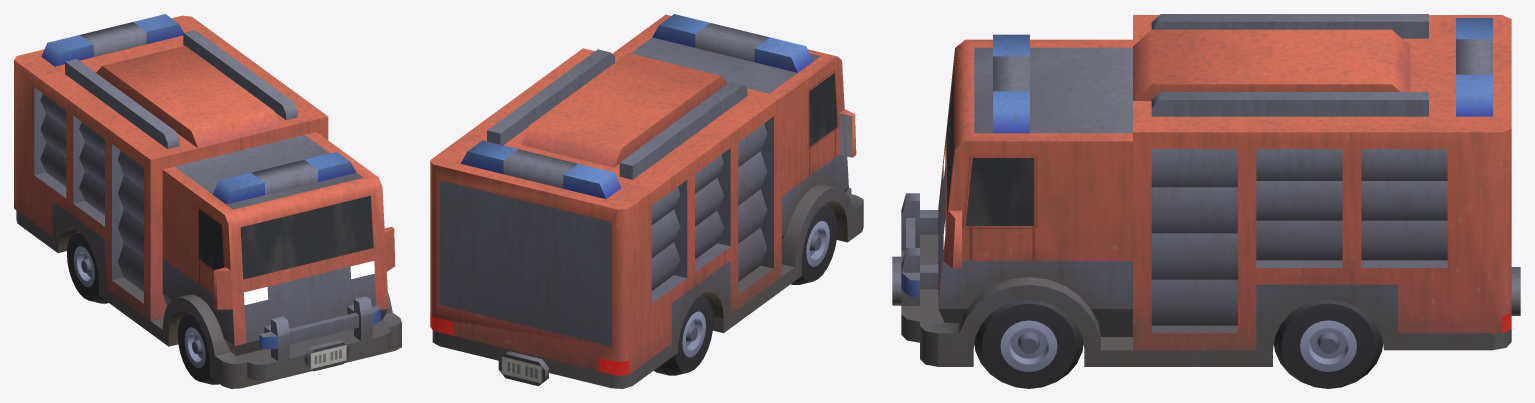
Rendered from firetruck-L3.glb.
3 views of the same model, side by side, from view 1: azimuth 30°, elevation 25°; view 2: azimuth 150°, elevation 25°; view 3: azimuth 270°, elevation 25° (orthographic). The views are drawn at different scales.
Visible parts, largest first — view 1: body, grill, wheel-front-right, wheel-back-right; view 2: body, wheel-back-right, wheel-front-right; view 3: body, wheel-front-left, wheel-back-left, grill.
Boxes of the visible parts, x1=… form: body: x1=14, y1=14, x2=401, y2=388; grill: x1=247, y1=296, x2=390, y2=380; wheel-front-right: x1=177, y1=312, x2=219, y2=384; wheel-back-right: x1=67, y1=230, x2=108, y2=303; body: x1=430, y1=14, x2=863, y2=388; wheel-back-right: x1=654, y1=294, x2=713, y2=375; wheel-front-right: x1=791, y1=203, x2=837, y2=284; body: x1=920, y1=14, x2=1520, y2=366; wheel-front-left: x1=974, y1=300, x2=1083, y2=388; wheel-back-left: x1=1274, y1=300, x2=1382, y2=388; grill: x1=892, y1=193, x2=938, y2=342.
Size of the model in its own units: 1.5 by 1.7 by 3.4.
6 materials, 6 textured.
